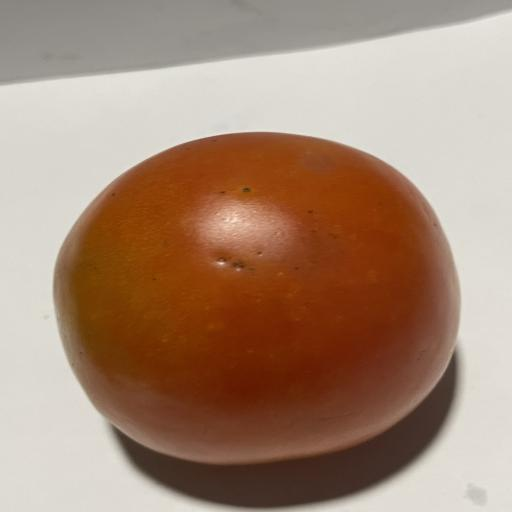unripe: (54, 132, 460, 464)
